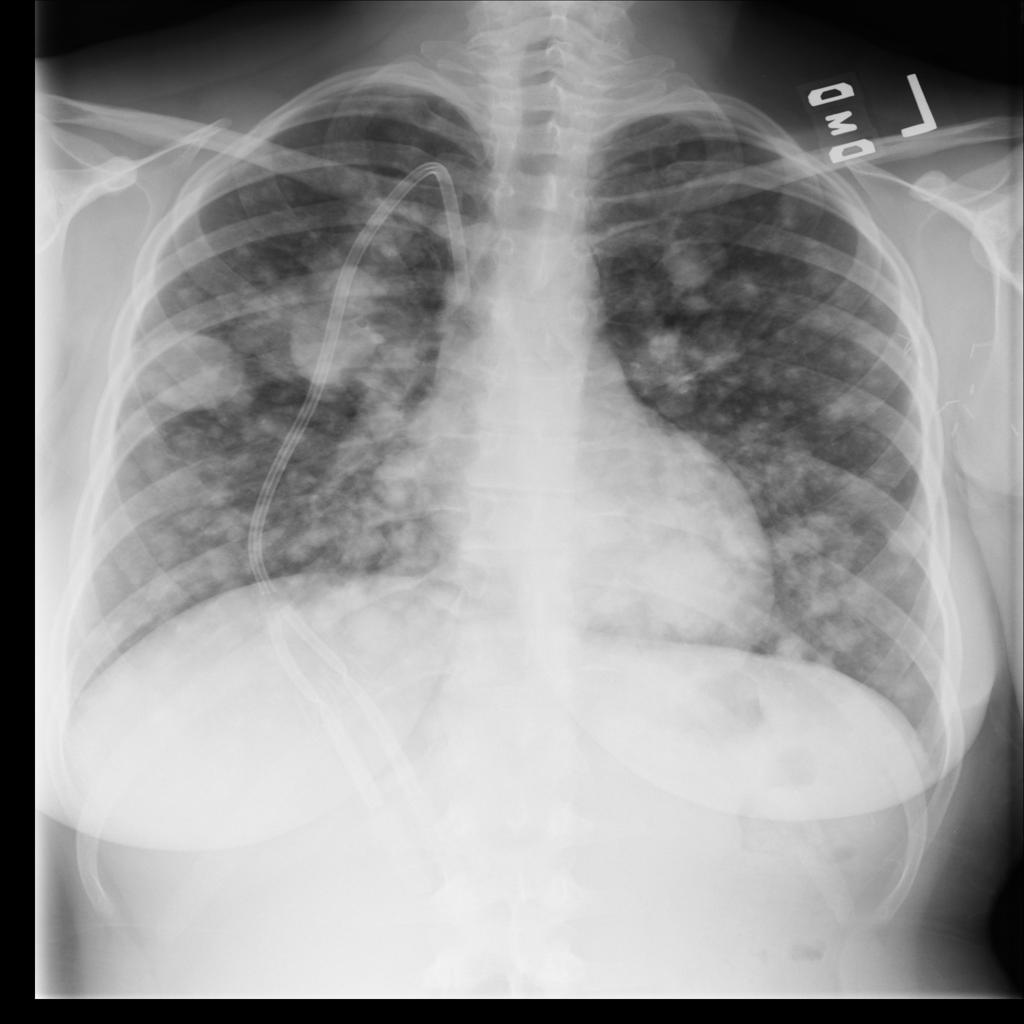nodule: (249, 237, 434, 394), (620, 528, 754, 647), (126, 310, 261, 418), (758, 503, 873, 619), (334, 595, 417, 666), (643, 438, 725, 507), (649, 234, 731, 297), (764, 626, 820, 674), (824, 620, 871, 665)
